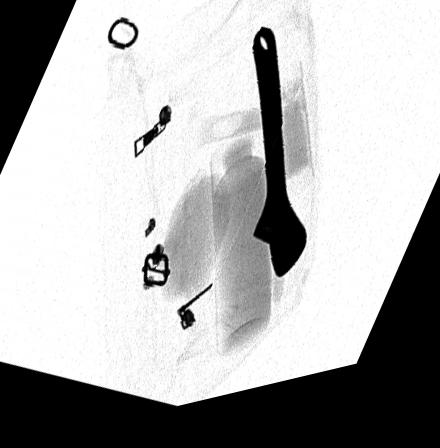Wrench: (251, 39, 308, 291)
